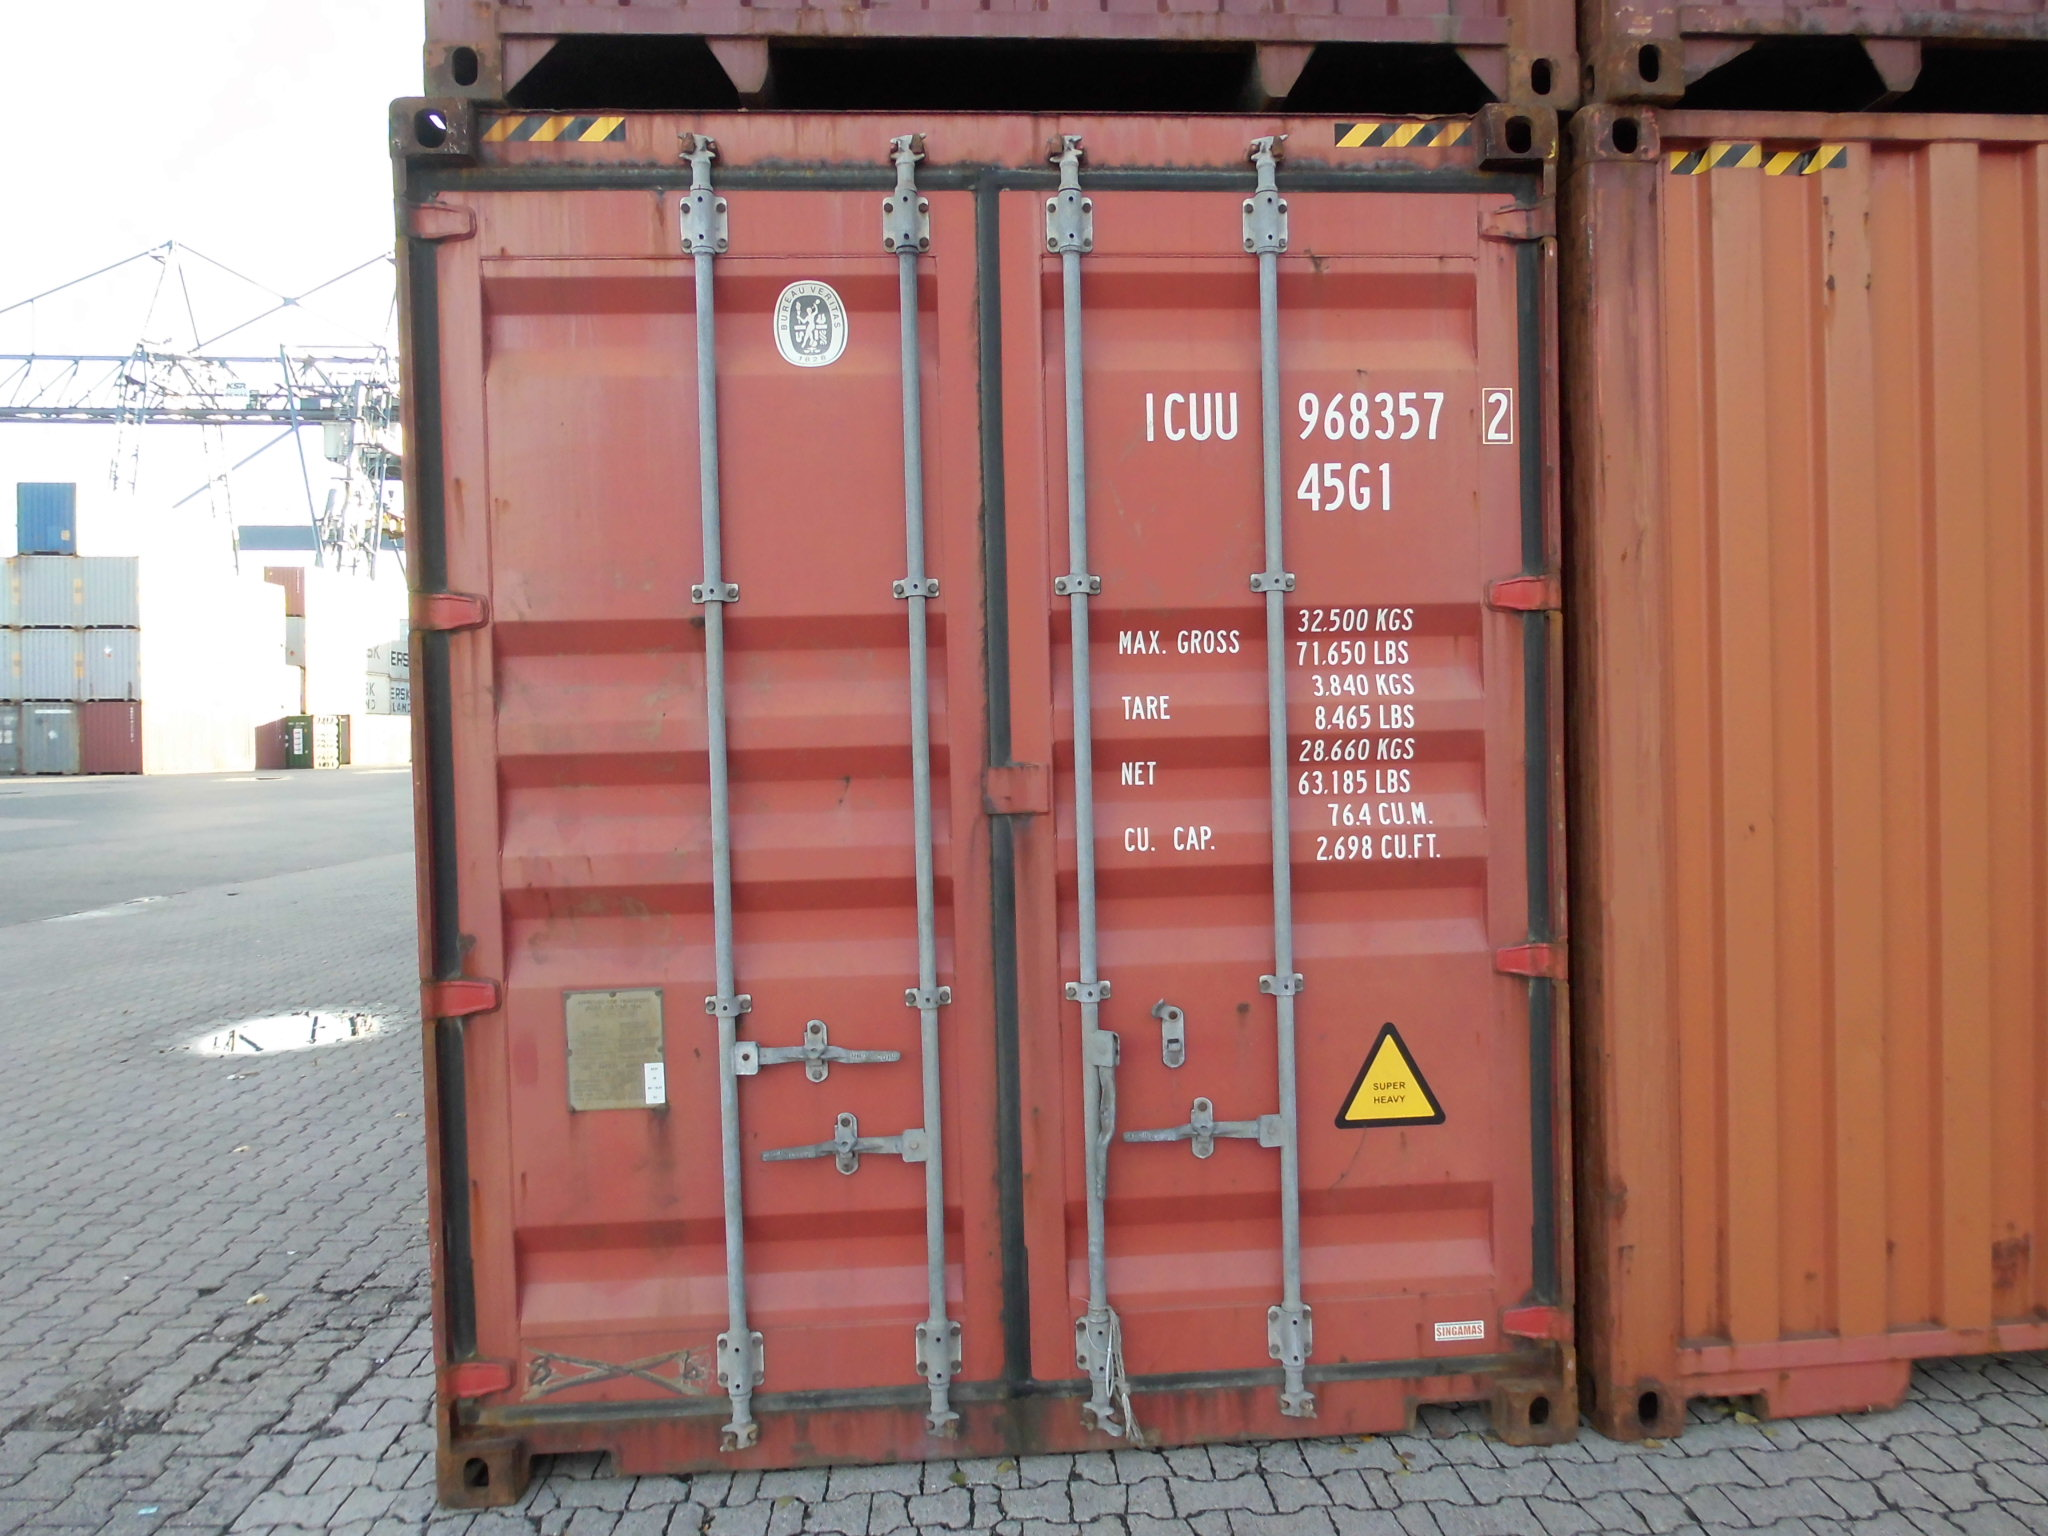container_door: (379, 97, 1584, 1463)
